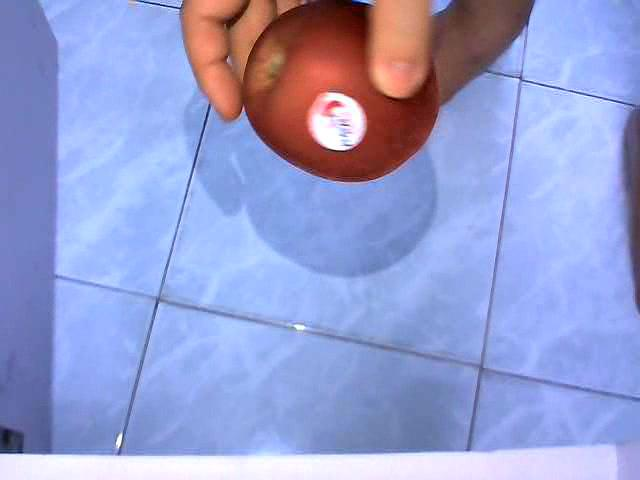apple: (240, 0, 442, 185)
